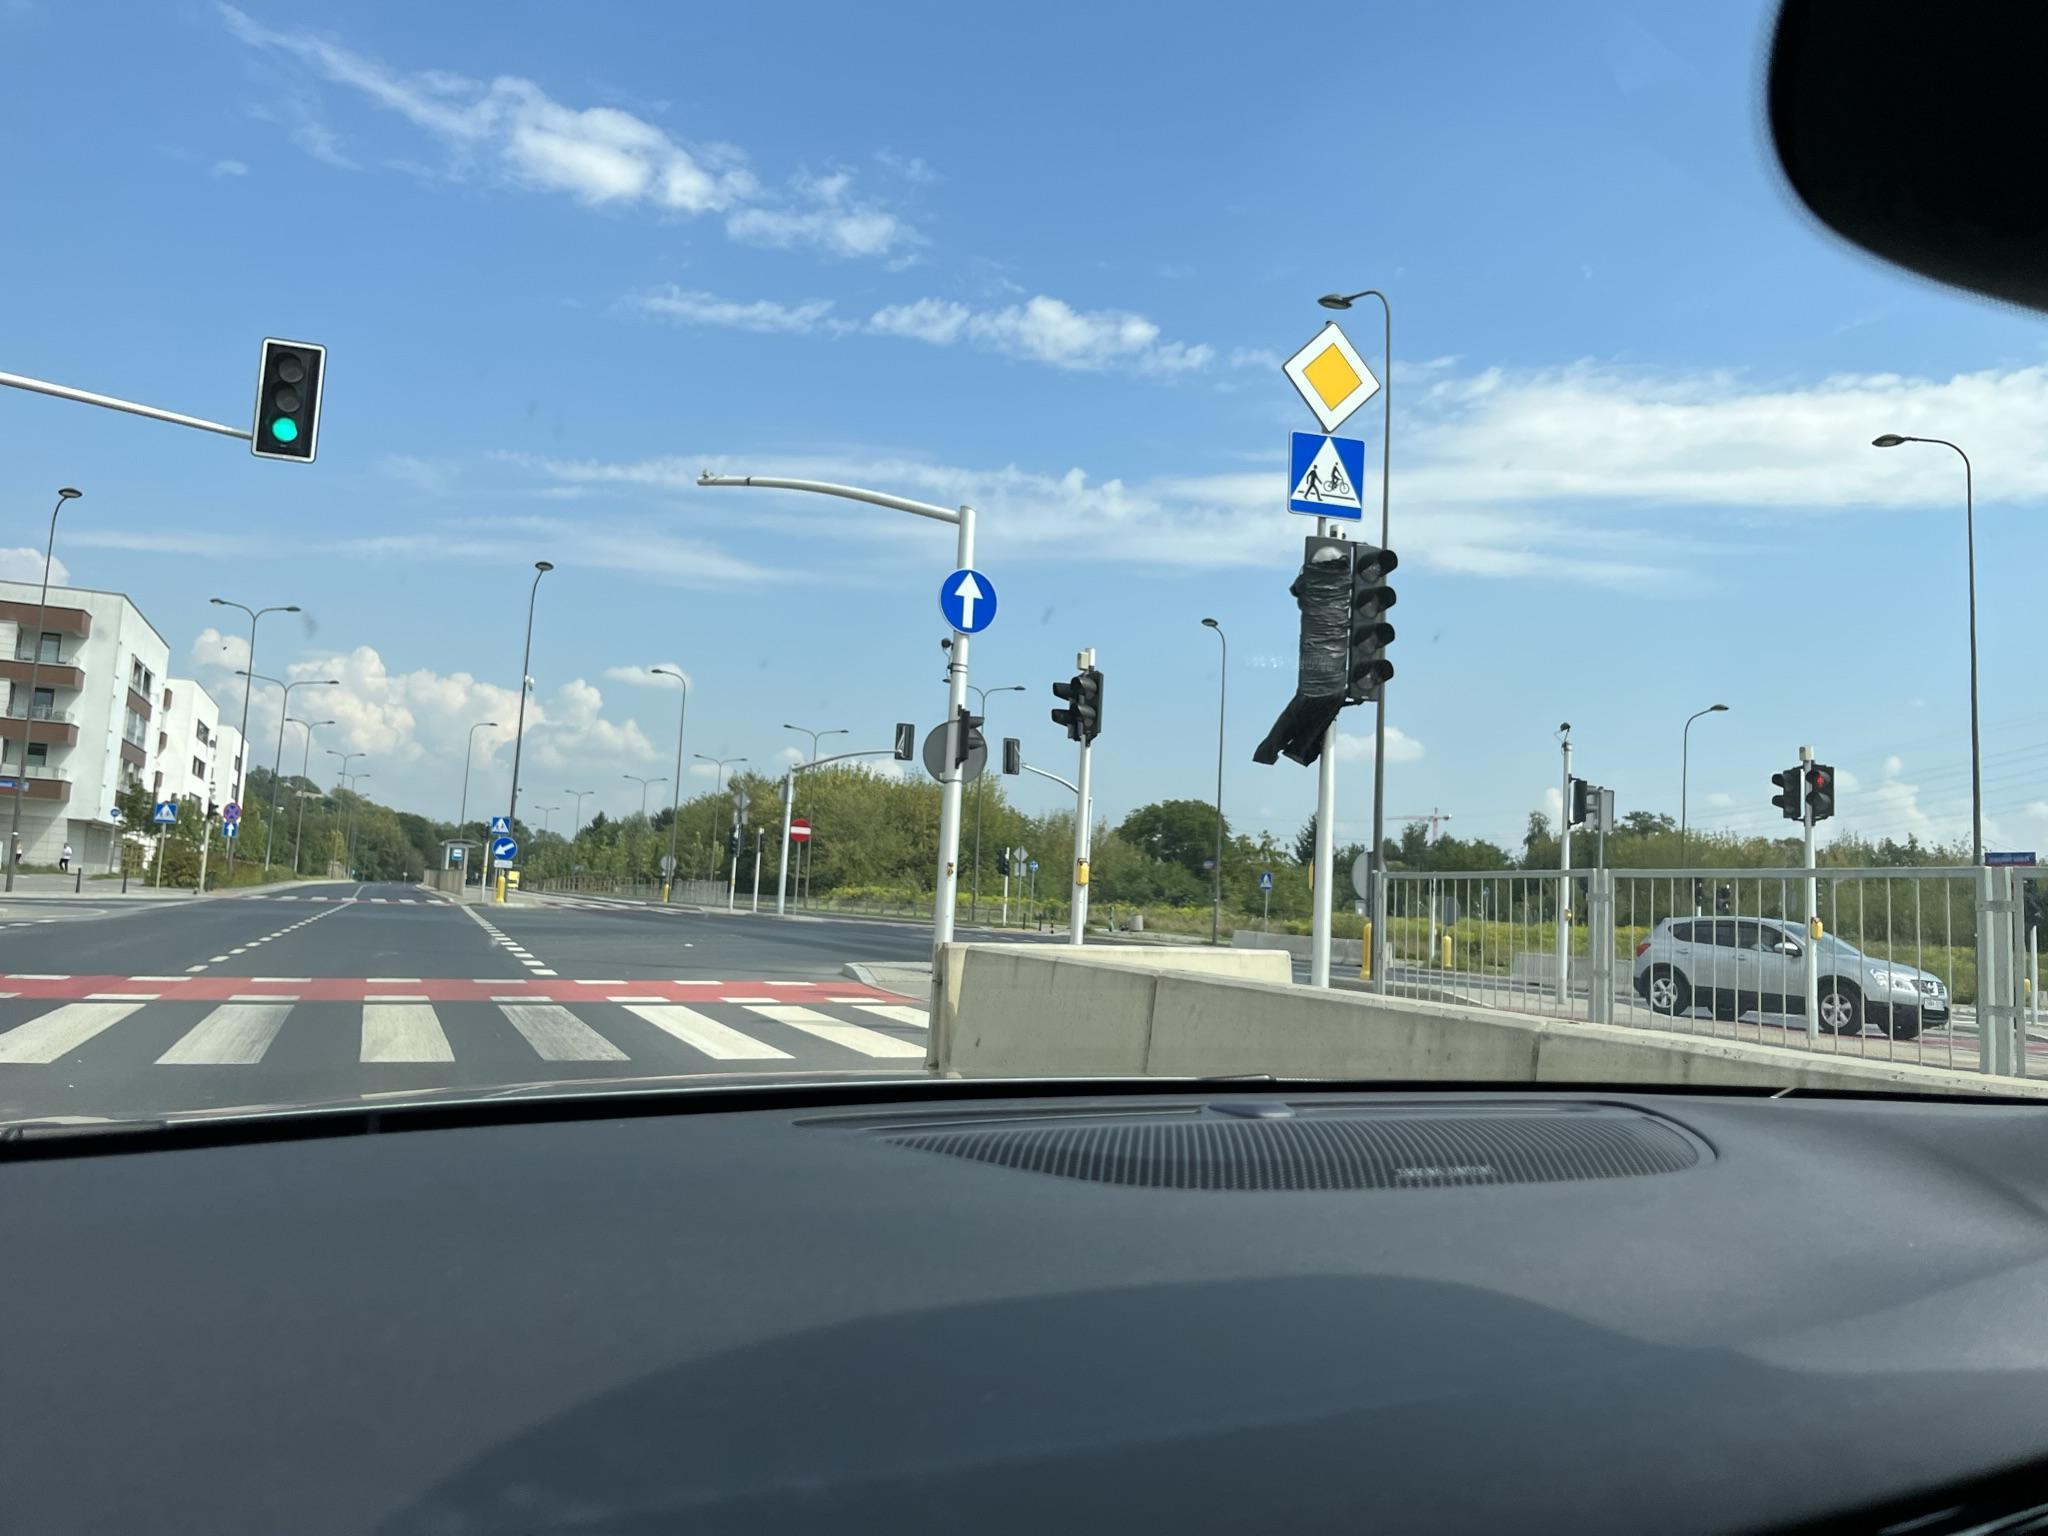information: (1280, 323, 1380, 434), (1288, 431, 1364, 521), (155, 803, 176, 823), (492, 816, 510, 834), (224, 823, 237, 836)
mandatory: (940, 566, 1000, 636), (492, 836, 518, 860)
prohibitory: (790, 816, 813, 842), (223, 802, 242, 823)
